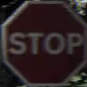Stop: (3, 3, 83, 80)
